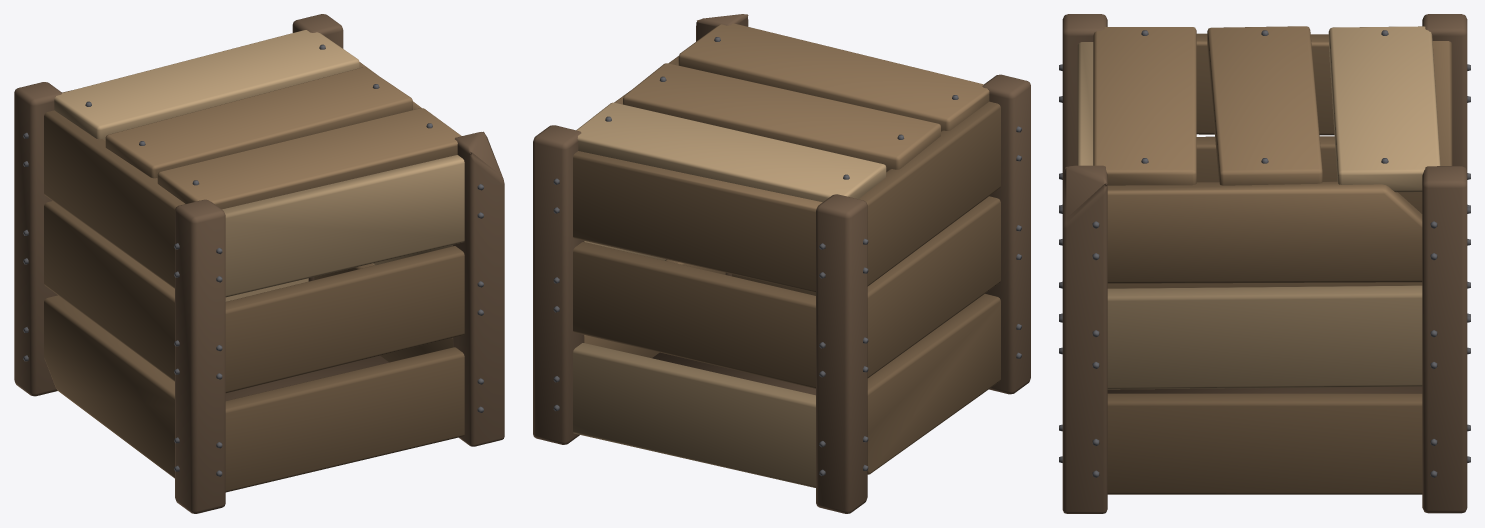
Rendered from crate.glb.
The picture shows the model from 3 angles, left to right: view 1: azimuth 30°, elevation 25°; view 2: azimuth 150°, elevation 25°; view 3: azimuth 270°, elevation 25°; orthographic projection. The views are drawn at different scales.
Visible parts, largest first — view 1: crate; view 2: crate; view 3: crate.
Boxes of the visible parts, bbox=[...] form: crate: bbox=[14, 14, 504, 513]; crate: bbox=[533, 14, 1030, 513]; crate: bbox=[1059, 14, 1470, 513].
Size of the model in its own units: 0.824 by 0.7395 by 0.824.
